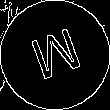M_S: (25, 23, 85, 87)
